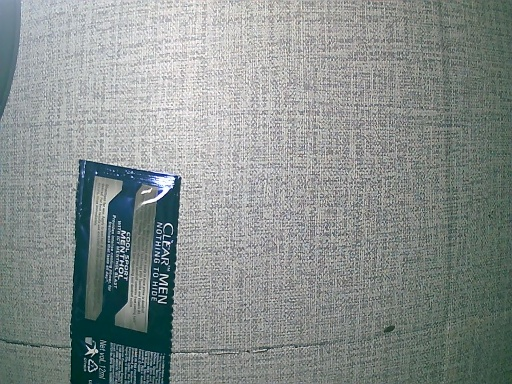plastic: (70, 158, 176, 384)
